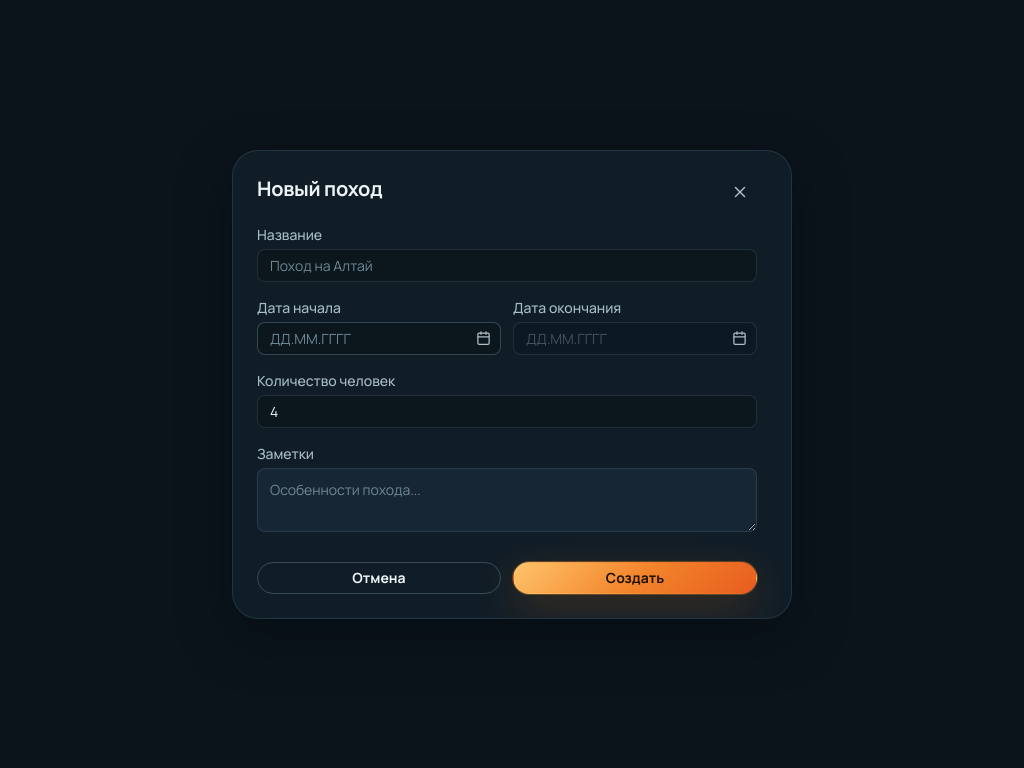
Scenario: TripForm — валидация при submit › endDate раньше startDate → ошибка «endDate must be on or after startDate»
Type "Алтай" into the field labelled "Название" at (507, 265), box x1=257 y1=248 x2=757 y2=282
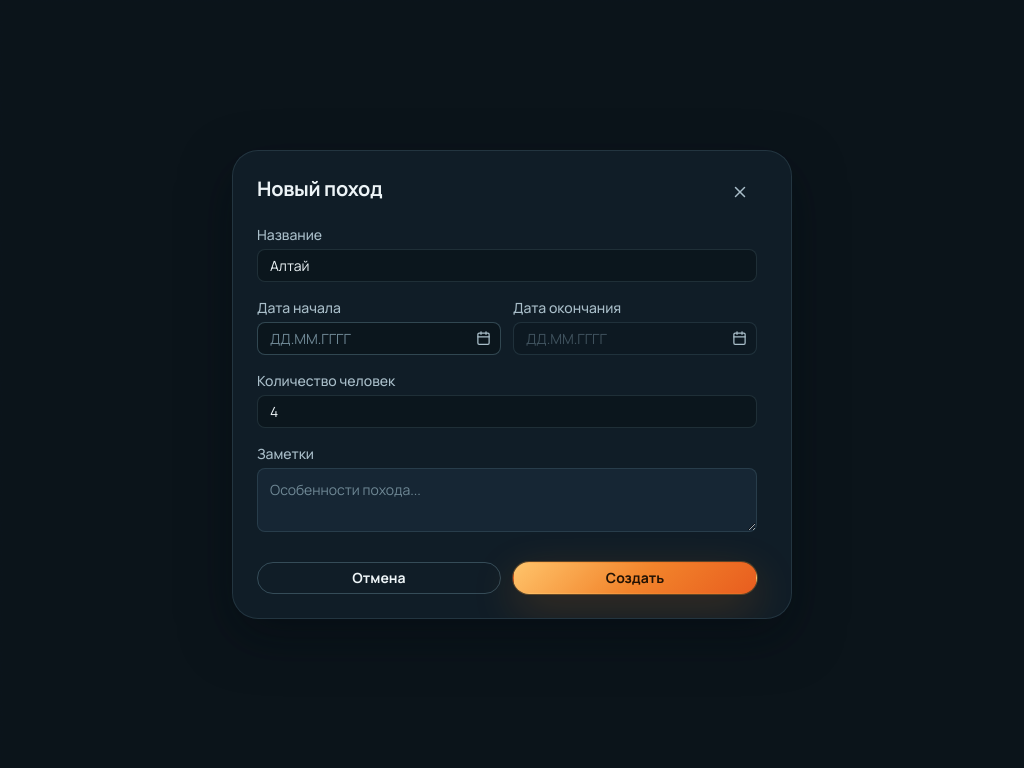
Type "2026-08-10" into the field labelled "Дата начала" at (379, 338), box x1=257 y1=322 x2=501 y2=354
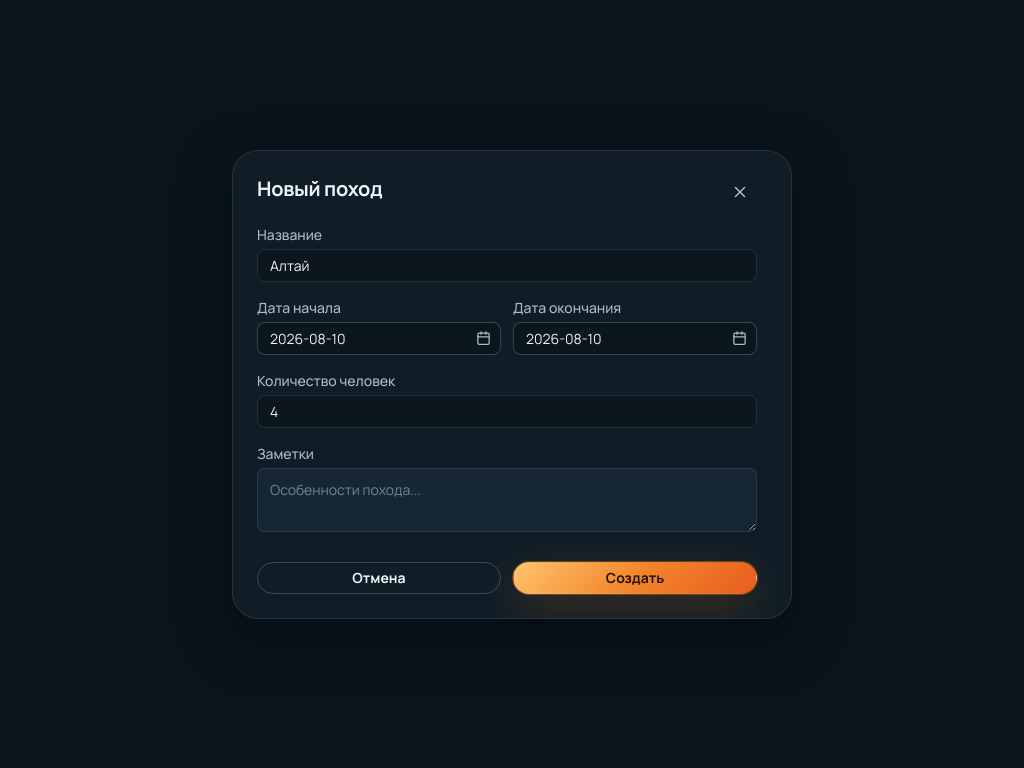
Replace the text in the field labelled "Дата окончания" with "2026-08-05" at (635, 338), box x1=513 y1=322 x2=757 y2=354
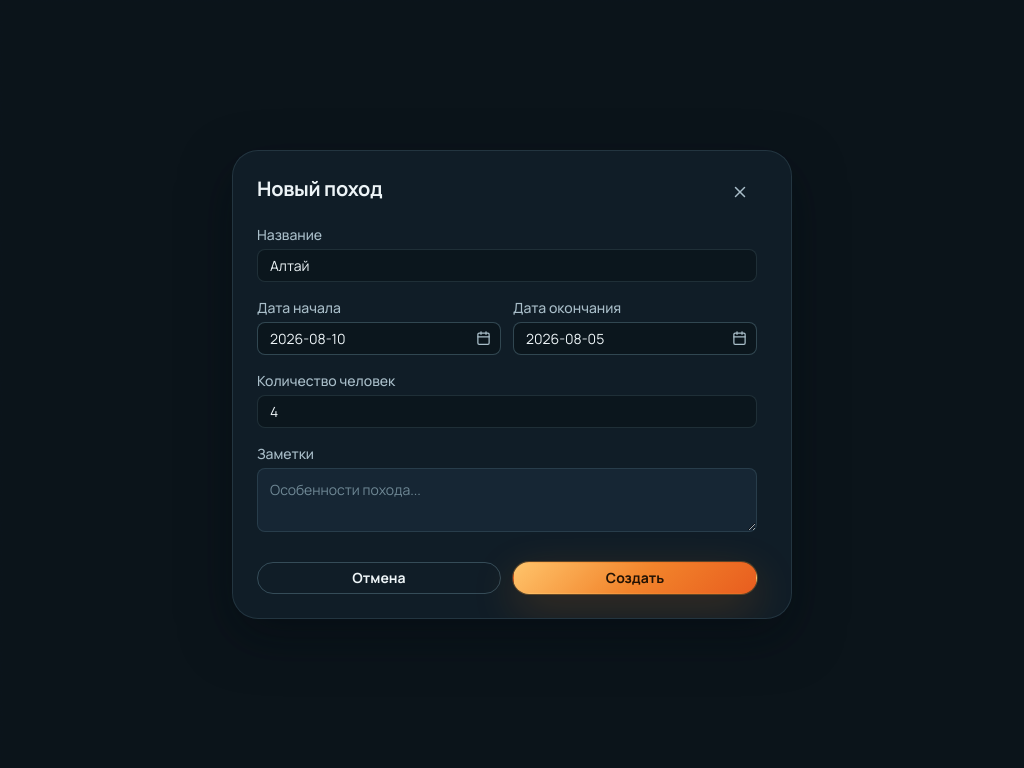
Click the button "Создать" at (635, 578), box x1=513 y1=562 x2=757 y2=594
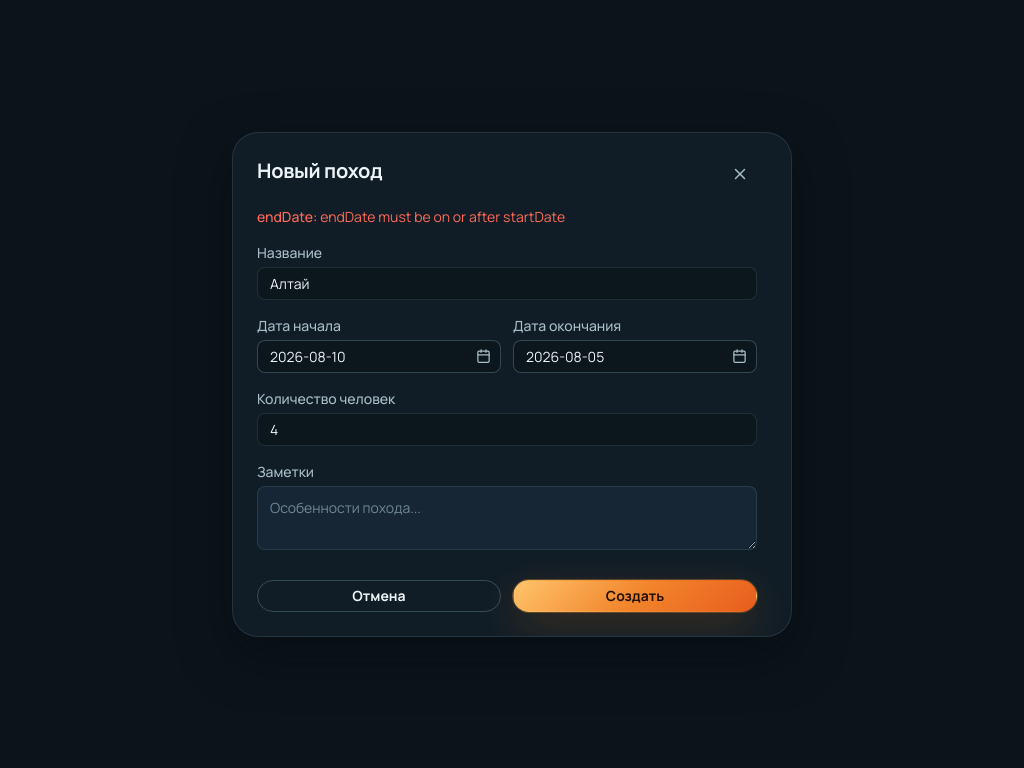
Expected: the message shows "endDate must be on or after startDate", x1=320 y1=206 x2=565 y2=226
